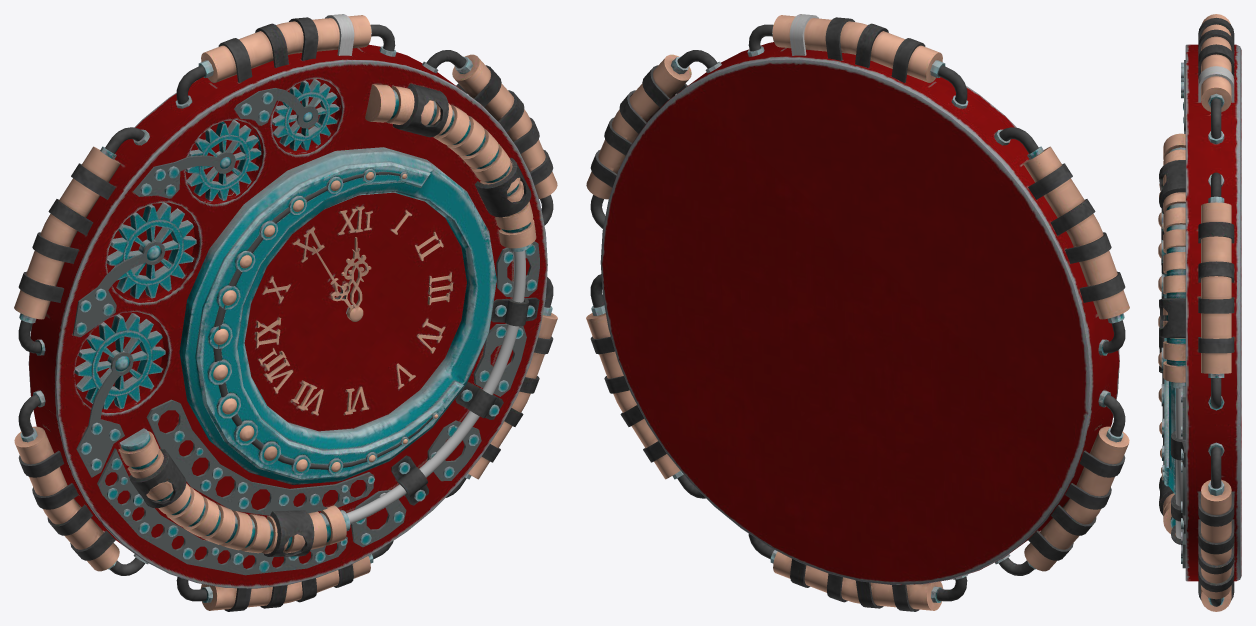
File: Stage1_Cog_Clock.fbx
3 views of the same model, side by side, from view 1: azimuth 30°, elevation 25°; view 2: azimuth 150°, elevation 25°; view 3: azimuth 270°, elevation 25° (orthographic). The views are drawn at different scales.
Visible parts, largest first — view 1: Object_11; view 2: Object_11; view 3: Object_11.
Boxes of the visible parts, left/top/right/bottom form: Object_11: left=14, top=14, right=557, bottom=611; Object_11: left=586, top=14, right=1129, bottom=611; Object_11: left=1158, top=14, right=1241, bottom=611.
Bounding box in the file's own units: 881 × 907 × 125.
Materials: 1 (1 with a texture image).
